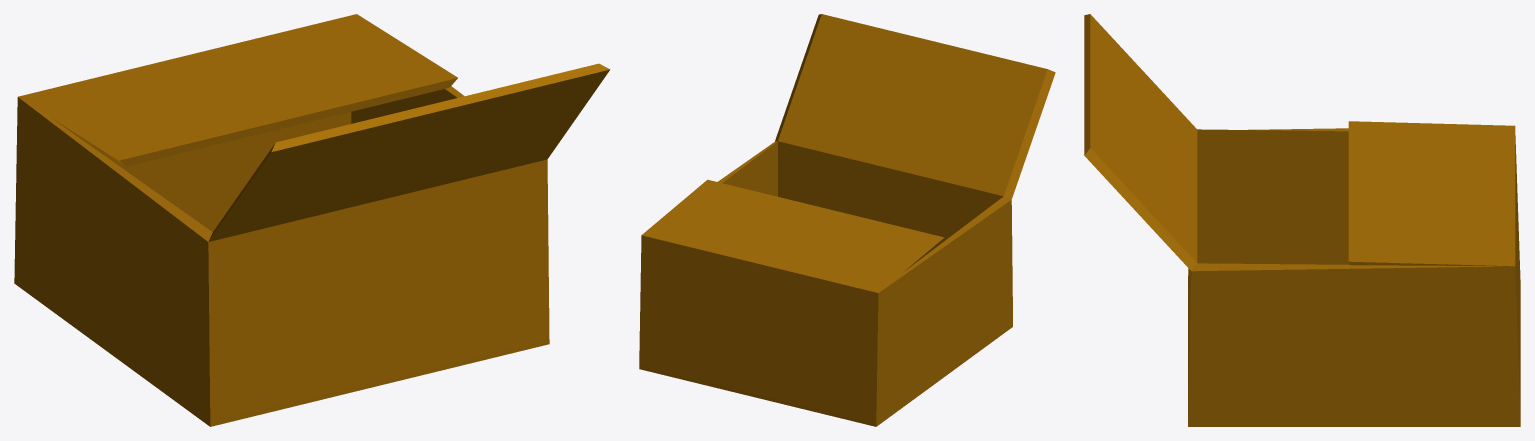
3 views of the same model, side by side, from view 1: azimuth 30°, elevation 25°; view 2: azimuth 150°, elevation 25°; view 3: azimuth 270°, elevation 25° (orthographic). The views are drawn at different scales.
Parts seen in each view (by area): view 1: ChipfoodCoDamaged.001; view 2: ChipfoodCoDamaged.001; view 3: ChipfoodCoDamaged.001.
Boxes of the visible parts, left/top/right/bottom form: ChipfoodCoDamaged.001: left=14, top=14, right=610, bottom=426; ChipfoodCoDamaged.001: left=639, top=14, right=1055, bottom=426; ChipfoodCoDamaged.001: left=1084, top=14, right=1520, bottom=426.
Bounding box in the file's own units: 4.04 × 3.66 × 5.25.
Materials: 1 (1 with a texture image).
